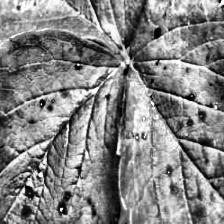Leaf Spot: (0, 27, 128, 224), (113, 0, 224, 224), (0, 0, 158, 64)
